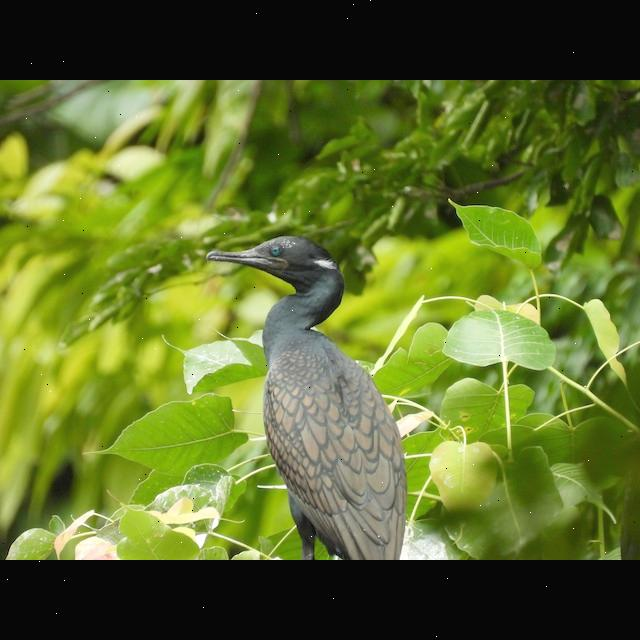cormorant: (202, 222, 430, 560)
